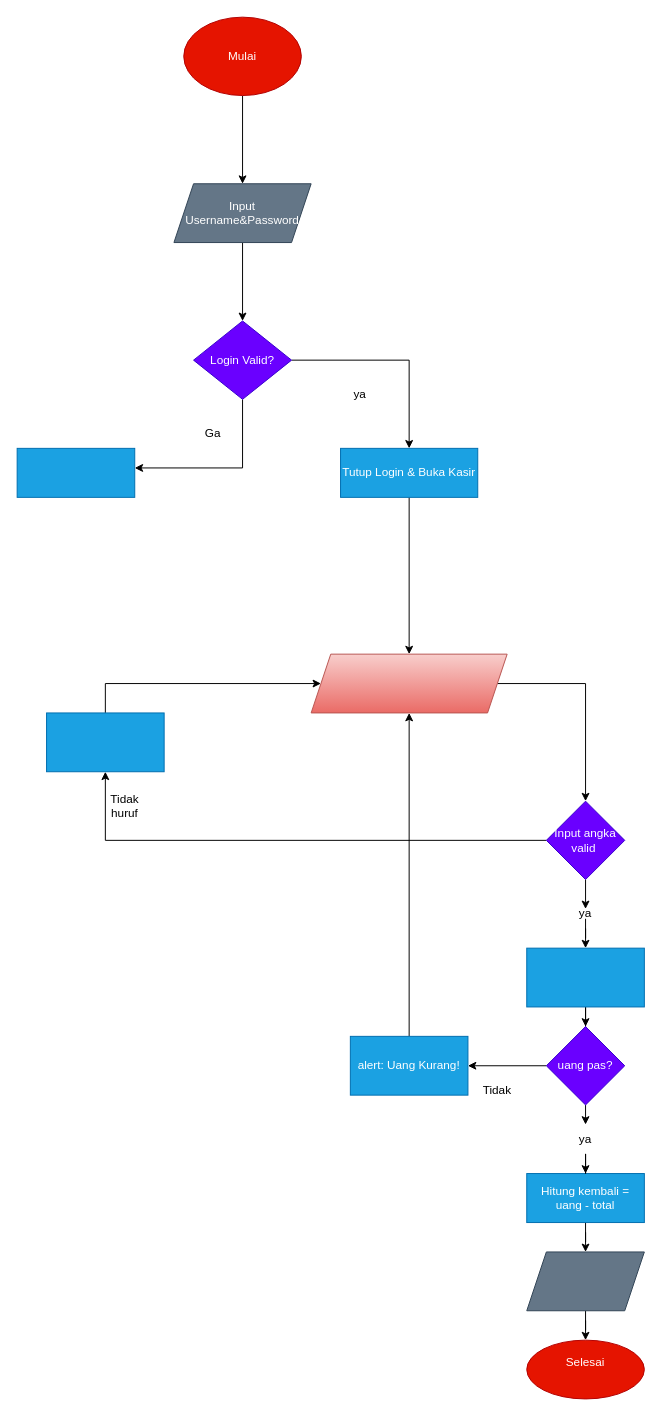
This 662x1416 diagram has some shape labels left out. Here are the shapes that lost their labels. From the top down, the centre of each, then its label:
point (75, 472): Tampilkan Pesan Eror
point (408, 683): Input Nama, Barang, Jumlah, Harga, Uang
point (105, 742): alert : input harus angka!
point (585, 977): Hitung total = jumlah x harga
point (585, 1281): Tampilkan Popup Struk
